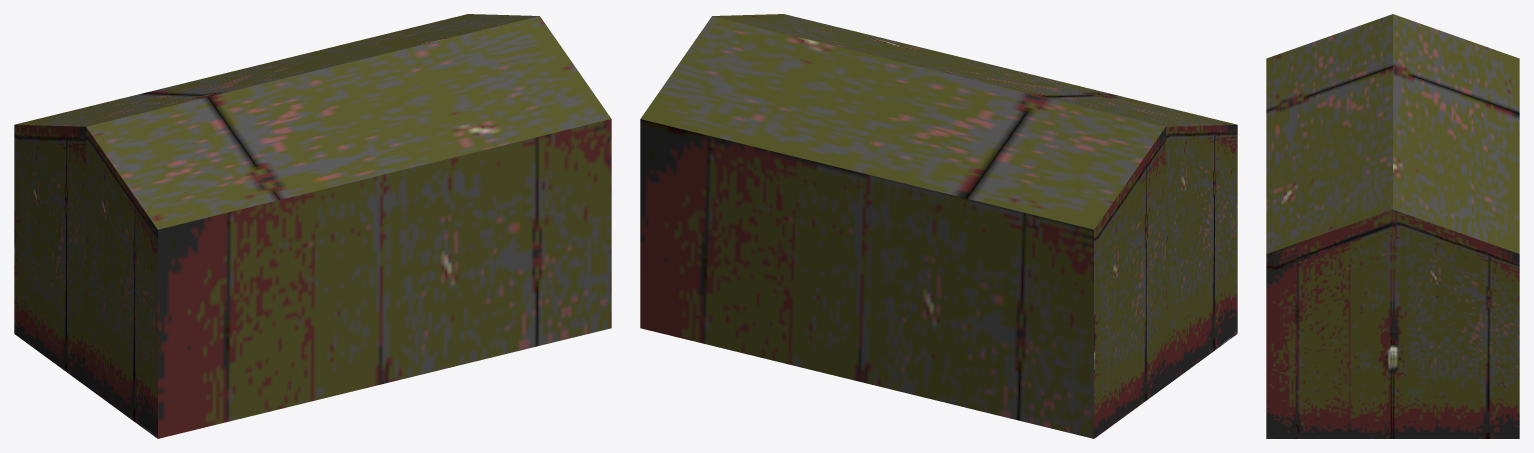
Rendered from garage03.fbx.
3 renders of one model, left to right at view 1: azimuth 30°, elevation 25°; view 2: azimuth 150°, elevation 25°; view 3: azimuth 270°, elevation 25°, orthographic. The views are drawn at different scales.
Parts seen in each view (by area): view 1: Cube.006; view 2: Cube.006; view 3: Cube.006.
Part boxes in pixels (box(x1,y1,x2,y2)): Cube.006: box(14, 14, 611, 438); Cube.006: box(640, 14, 1237, 438); Cube.006: box(1266, 14, 1519, 438).
Size of the model in its own units: 259 by 142 by 142.
1 material, 1 textured.
